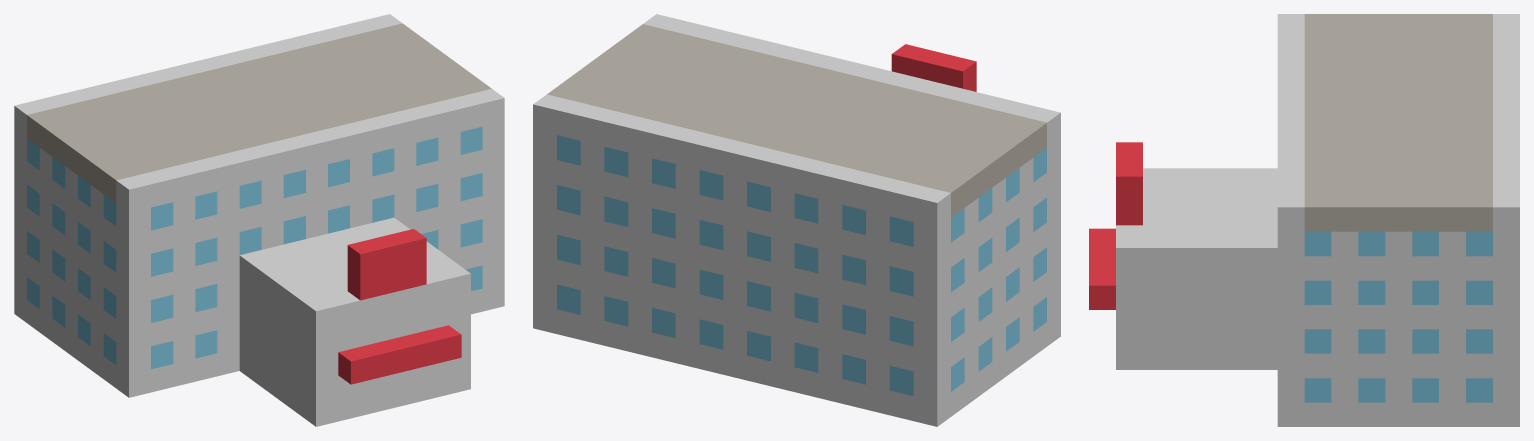
File: hospital.glb
The picture shows the model from 3 angles, left to right: view 1: azimuth 30°, elevation 25°; view 2: azimuth 150°, elevation 25°; view 3: azimuth 270°, elevation 25°; orthographic projection. The views are drawn at different scales.
Visible parts, largest first — view 1: hospital_white, hospital_roof_flat, hospital_window, hospital_red; view 2: hospital_white, hospital_roof_flat, hospital_window, hospital_red; view 3: hospital_white, hospital_roof_flat, hospital_window, hospital_red.
Part boxes in pixels (x1,y1,x2,y2): hospital_white: (14, 14, 504, 426); hospital_roof_flat: (27, 23, 491, 202); hospital_window: (27, 126, 482, 369); hospital_red: (338, 229, 461, 384); hospital_white: (533, 14, 1060, 426); hospital_roof_flat: (547, 24, 1046, 217); hospital_window: (557, 135, 1046, 396); hospital_red: (891, 44, 976, 91); hospital_white: (1116, 14, 1519, 426); hospital_roof_flat: (1304, 14, 1492, 231); hospital_window: (1304, 231, 1492, 402); hospital_red: (1089, 142, 1142, 309).
Bounding box in the file's own units: 33.03 × 17.49 × 31.09.
